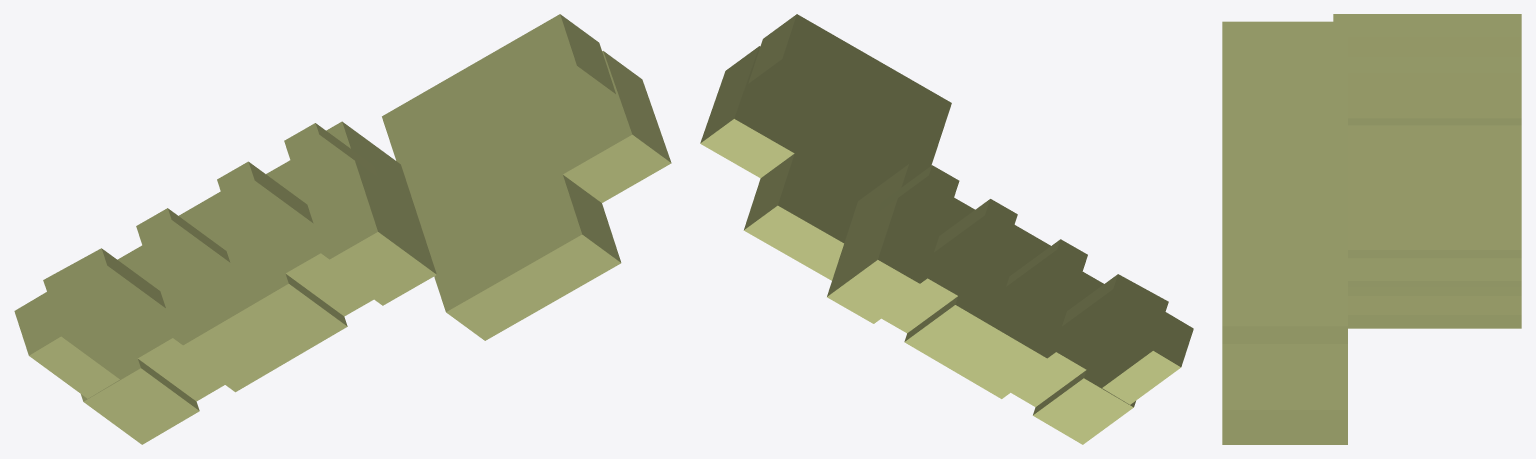
3 renders of one model, left to right at view 1: azimuth 30°, elevation 25°; view 2: azimuth 150°, elevation 25°; view 3: azimuth 270°, elevation 25°, orthographic. The views are drawn at different scales.
Parts seen in each view (by area): view 1: 0_3_1_3_3_0_2_3_2; view 2: 0_3_1_3_3_0_2_3_2; view 3: 0_3_1_3_3_0_2_3_2.
Boxes of the visible parts, bbox=[...] form: 0_3_1_3_3_0_2_3_2: bbox=[14, 14, 671, 444]; 0_3_1_3_3_0_2_3_2: bbox=[700, 14, 1193, 444]; 0_3_1_3_3_0_2_3_2: bbox=[1222, 14, 1521, 444].
Size of the model in its own units: 49.78 by 27.38 by 14.3.
